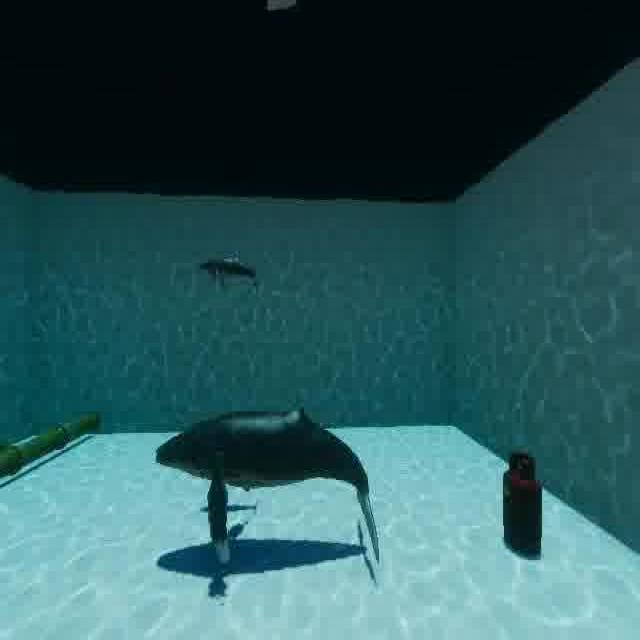Cylinder: (490, 439, 557, 568)
Pipe: (0, 393, 111, 491)
Whale: (144, 380, 392, 592), (191, 239, 264, 298)
